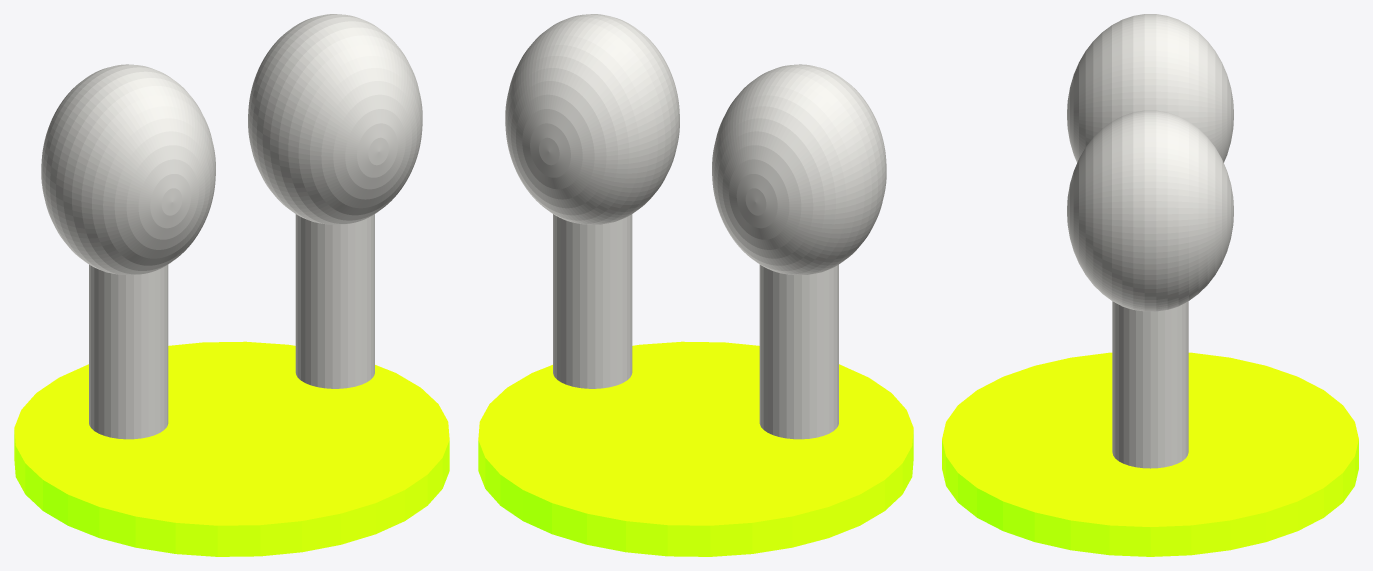
Rendered from tech_earbuds.glb.
3 views of the same model, side by side, from view 1: azimuth 30°, elevation 25°; view 2: azimuth 150°, elevation 25°; view 3: azimuth 270°, elevation 25° (orthographic). The views are drawn at different scales.
Visible parts, largest first — view 1: 08_04_Popular_Tech_Earbuds_ROOT_base, 08_04_Popular_Tech_Earbuds_part_01, 08_04_Popular_Tech_Earbuds_part_03, 08_04_Popular_Tech_Earbuds_part_04, 08_04_Popular_Tech_Earbuds_part_02; view 2: 08_04_Popular_Tech_Earbuds_ROOT_base, 08_04_Popular_Tech_Earbuds_part_01, 08_04_Popular_Tech_Earbuds_part_03, 08_04_Popular_Tech_Earbuds_part_04, 08_04_Popular_Tech_Earbuds_part_02; view 3: 08_04_Popular_Tech_Earbuds_ROOT_base, 08_04_Popular_Tech_Earbuds_part_03, 08_04_Popular_Tech_Earbuds_part_01, 08_04_Popular_Tech_Earbuds_part_04.
Part boxes in pixels (left/top/right/bottom): 08_04_Popular_Tech_Earbuds_ROOT_base: left=14, top=341, right=449, bottom=556; 08_04_Popular_Tech_Earbuds_part_01: left=41, top=64, right=215, bottom=274; 08_04_Popular_Tech_Earbuds_part_03: left=248, top=14, right=422, bottom=224; 08_04_Popular_Tech_Earbuds_part_04: left=295, top=214, right=374, bottom=388; 08_04_Popular_Tech_Earbuds_part_02: left=89, top=264, right=168, bottom=439; 08_04_Popular_Tech_Earbuds_ROOT_base: left=478, top=341, right=913, bottom=556; 08_04_Popular_Tech_Earbuds_part_01: left=712, top=64, right=886, bottom=274; 08_04_Popular_Tech_Earbuds_part_03: left=505, top=14, right=679, bottom=224; 08_04_Popular_Tech_Earbuds_part_04: left=553, top=214, right=632, bottom=388; 08_04_Popular_Tech_Earbuds_part_02: left=759, top=264, right=838, bottom=439; 08_04_Popular_Tech_Earbuds_ROOT_base: left=942, top=352, right=1358, bottom=556; 08_04_Popular_Tech_Earbuds_part_03: left=1067, top=110, right=1233, bottom=311; 08_04_Popular_Tech_Earbuds_part_01: left=1067, top=14, right=1233, bottom=162; 08_04_Popular_Tech_Earbuds_part_04: left=1112, top=301, right=1188, bottom=468.
Size of the model in its own units: 0.76 by 0.8052 by 0.76.
